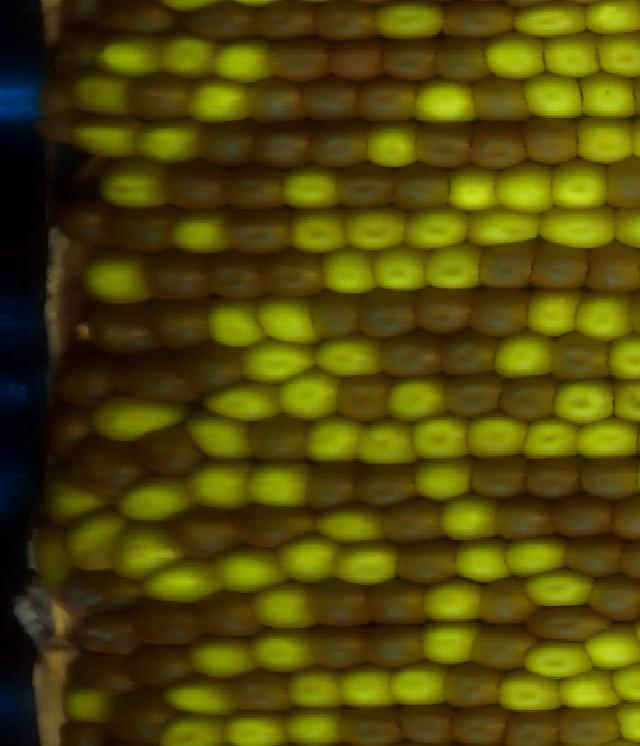fluorescent: (93, 154, 191, 214), (87, 392, 196, 445), (77, 250, 157, 312), (532, 202, 622, 252), (250, 290, 325, 349), (181, 73, 258, 130), (111, 519, 186, 577), (571, 284, 640, 347), (237, 339, 323, 389), (168, 200, 236, 263), (131, 114, 208, 169), (183, 412, 262, 465), (546, 154, 611, 217), (59, 519, 128, 578), (514, 414, 588, 469), (207, 29, 277, 87), (202, 293, 273, 350), (66, 117, 152, 164), (358, 114, 426, 173), (211, 545, 288, 597), (408, 74, 482, 128), (493, 160, 560, 219), (478, 28, 554, 80), (151, 29, 219, 87), (519, 70, 589, 125), (462, 408, 532, 462), (521, 563, 603, 609), (273, 537, 339, 594), (463, 205, 546, 250), (303, 412, 368, 469), (534, 32, 608, 82), (318, 245, 388, 297), (283, 205, 353, 257), (318, 333, 388, 385), (69, 68, 139, 120), (523, 634, 594, 685), (573, 70, 640, 124), (187, 463, 254, 517), (511, 2, 591, 47), (311, 505, 391, 550), (339, 205, 411, 254), (242, 463, 314, 512), (186, 633, 258, 682), (549, 378, 619, 428), (116, 482, 199, 524), (411, 412, 472, 469), (572, 412, 640, 463), (98, 32, 167, 82), (354, 417, 419, 470), (248, 632, 324, 677), (39, 475, 116, 519), (403, 205, 472, 254), (369, 245, 436, 295), (573, 115, 640, 165), (278, 162, 341, 215), (491, 330, 557, 380), (251, 587, 319, 635), (383, 377, 452, 424), (552, 672, 626, 715), (146, 563, 221, 605), (497, 668, 561, 717), (439, 499, 507, 545), (506, 534, 574, 580), (527, 287, 586, 340), (333, 544, 404, 588), (418, 580, 483, 628), (444, 163, 502, 215), (387, 665, 453, 710), (408, 460, 477, 503), (333, 670, 402, 713), (164, 677, 238, 717), (582, 624, 640, 675), (377, 1, 447, 42), (281, 665, 344, 710), (419, 623, 478, 668), (453, 544, 513, 587), (592, 30, 640, 83), (39, 537, 77, 594), (599, 375, 640, 427), (222, 713, 286, 746), (580, 1, 640, 35), (159, 713, 223, 744), (603, 332, 640, 384), (283, 713, 340, 746), (63, 689, 117, 723), (606, 200, 640, 252)
nonfluorescent: (159, 509, 249, 567), (67, 602, 152, 660), (78, 435, 144, 503), (466, 619, 538, 678), (366, 575, 444, 629), (112, 683, 187, 739), (353, 73, 428, 128), (303, 578, 378, 633), (354, 285, 421, 345), (355, 622, 429, 676), (139, 425, 209, 482), (238, 505, 316, 554), (66, 648, 142, 698), (518, 110, 579, 172), (414, 282, 477, 342), (391, 539, 462, 592), (433, 3, 526, 43), (297, 289, 364, 344), (267, 34, 339, 85), (222, 208, 292, 260), (528, 238, 593, 294), (552, 329, 612, 389), (413, 119, 474, 178), (474, 238, 537, 295), (468, 287, 531, 344), (136, 596, 205, 648), (136, 73, 201, 128), (186, 122, 262, 169), (518, 608, 620, 643), (464, 114, 524, 173), (54, 200, 119, 254), (502, 367, 562, 425), (196, 588, 258, 644), (306, 119, 369, 174), (259, 249, 328, 299), (83, 314, 159, 359), (334, 374, 396, 429), (249, 77, 314, 129), (441, 664, 508, 714), (383, 334, 451, 383), (389, 162, 453, 214), (153, 305, 213, 360), (462, 459, 529, 508), (302, 73, 362, 127), (97, 1, 182, 39), (323, 33, 387, 83), (522, 454, 586, 504), (478, 574, 536, 629), (427, 35, 488, 87), (163, 169, 229, 217), (442, 701, 512, 746), (254, 122, 311, 177), (582, 245, 640, 299), (442, 330, 507, 378), (501, 498, 561, 550), (203, 254, 266, 303), (252, 413, 311, 465), (448, 373, 507, 425), (335, 704, 408, 746), (234, 671, 302, 716), (560, 701, 628, 746), (305, 624, 370, 671), (188, 1, 259, 44), (128, 364, 194, 410), (443, 1, 514, 43), (587, 569, 640, 625), (46, 408, 96, 467), (469, 74, 529, 123), (187, 343, 243, 395), (563, 535, 627, 580), (379, 35, 436, 85), (304, 463, 361, 513), (554, 497, 621, 539), (73, 575, 146, 613), (337, 163, 396, 210), (500, 706, 569, 746), (149, 260, 207, 307), (358, 462, 417, 508), (223, 169, 289, 210), (391, 497, 443, 549), (318, 1, 382, 43), (583, 460, 640, 507), (394, 701, 452, 746), (114, 213, 176, 254), (134, 643, 197, 683), (259, 1, 317, 44), (66, 367, 121, 408), (53, 39, 118, 72), (601, 157, 640, 212), (608, 494, 640, 543)
